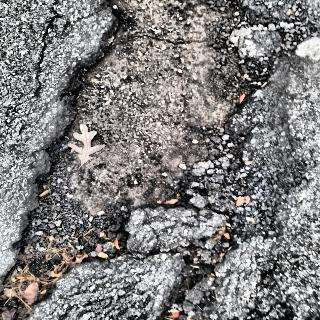pothole: (50, 4, 255, 283)
